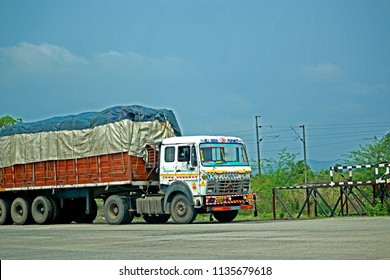truck: (1, 104, 255, 224)
